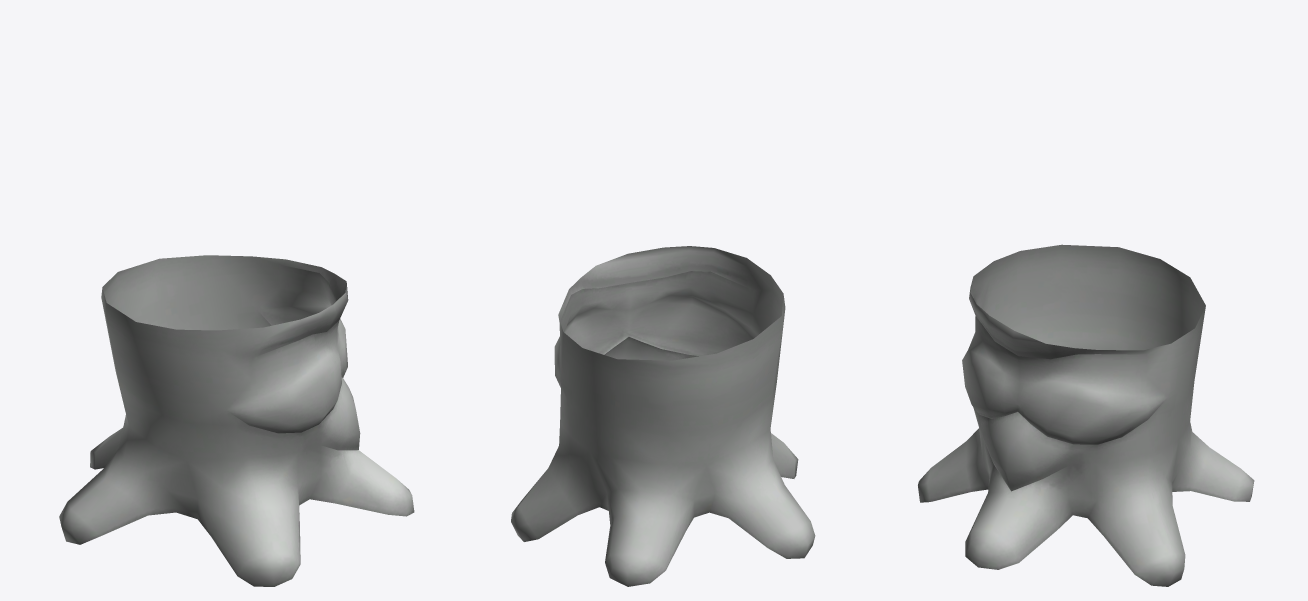
The model's file is triboniophoruscon.fbx.
The picture shows the model from 3 angles, left to right: view 1: azimuth 30°, elevation 25°; view 2: azimuth 150°, elevation 25°; view 3: azimuth 270°, elevation 25°; orthographic projection. The views are drawn at different scales.
Parts seen in each view (by area): view 1: triboniophorus.001; view 2: triboniophorus.001; view 3: triboniophorus.001.
Part boxes in pixels (<box>): triboniophorus.001: <box>59,255,414,586</box>; triboniophorus.001: <box>511,246,815,586</box>; triboniophorus.001: <box>918,244,1254,586</box>.
Size of the model in its own units: 630 by 808 by 589.
1 material, 1 textured.
